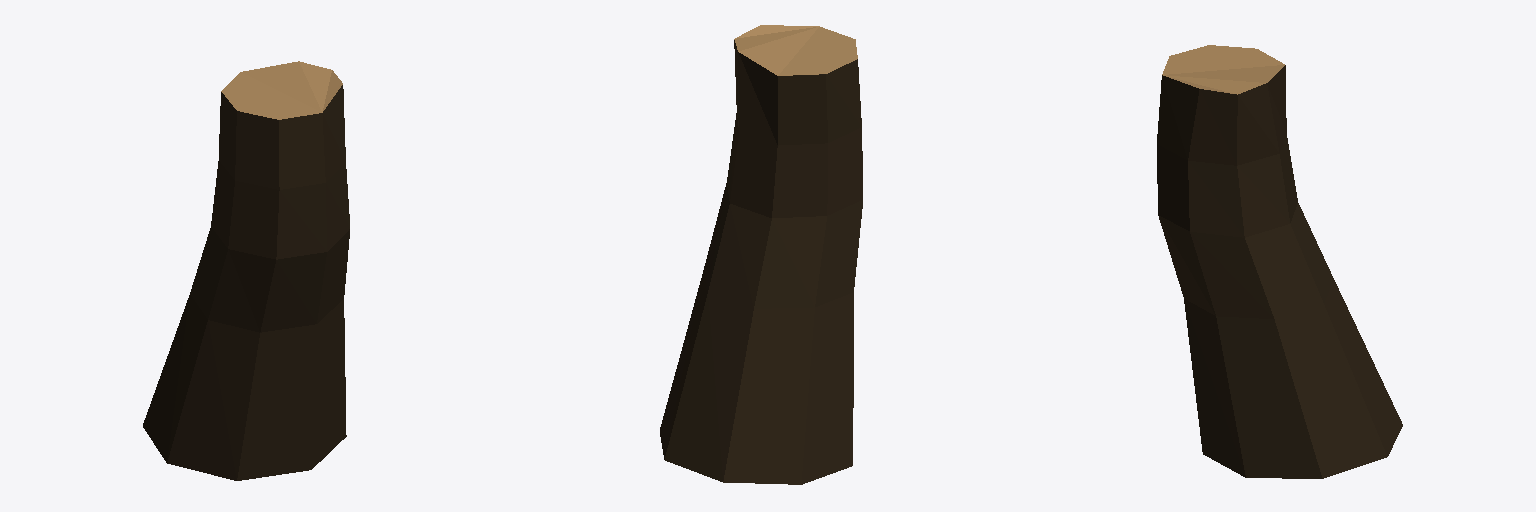
The model's file is Tree_8.obj.
3 views of the same model, side by side, from view 1: azimuth 30°, elevation 25°; view 2: azimuth 150°, elevation 25°; view 3: azimuth 270°, elevation 25° (orthographic).
Visible parts, largest first — view 1: Cylinder.003; view 2: Cylinder.003; view 3: Cylinder.003.
Boxes of the visible parts, x1,y1,x2,y2 form: Cylinder.003: [143, 61, 349, 480]; Cylinder.003: [660, 25, 862, 484]; Cylinder.003: [1157, 45, 1402, 478].
Size of the model in its own units: 0.4326 by 0.9042 by 0.5298.